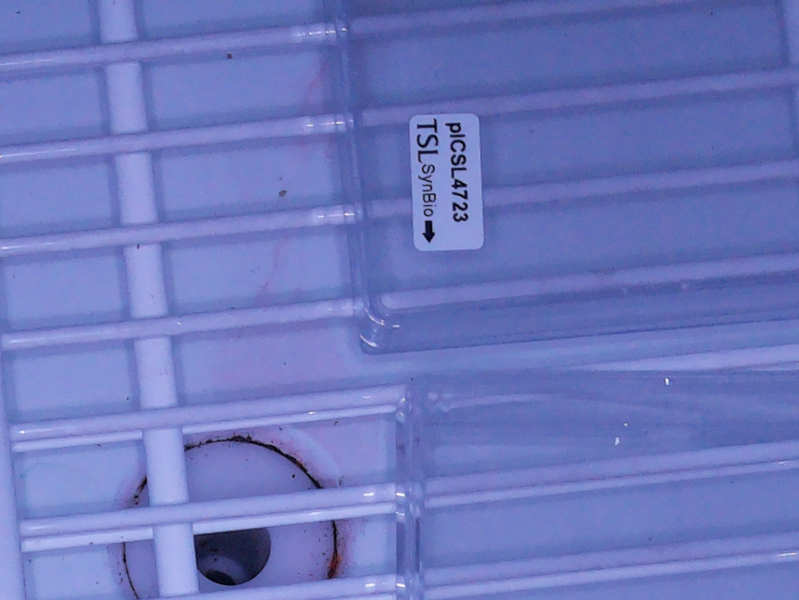plate: (329, 1, 799, 356), (391, 369, 799, 600)
